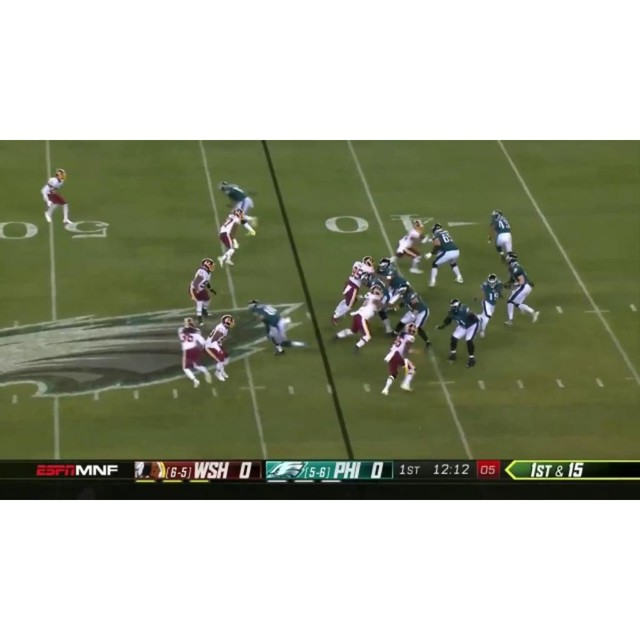american-football-player: (334, 282, 385, 349), (247, 299, 308, 355), (436, 298, 483, 369), (329, 257, 374, 324), (370, 257, 408, 334), (380, 325, 419, 395), (502, 255, 540, 325), (424, 223, 465, 286), (176, 317, 212, 387), (395, 282, 432, 348), (217, 179, 258, 238), (217, 207, 254, 267), (391, 218, 430, 273), (204, 314, 236, 381), (41, 167, 76, 226), (474, 273, 503, 338), (189, 258, 217, 320), (488, 210, 517, 264)
